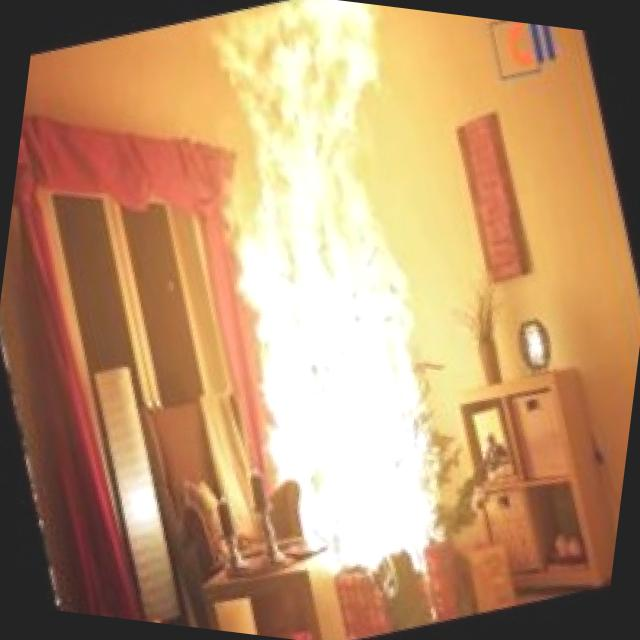fire: (85, 0, 582, 627)
